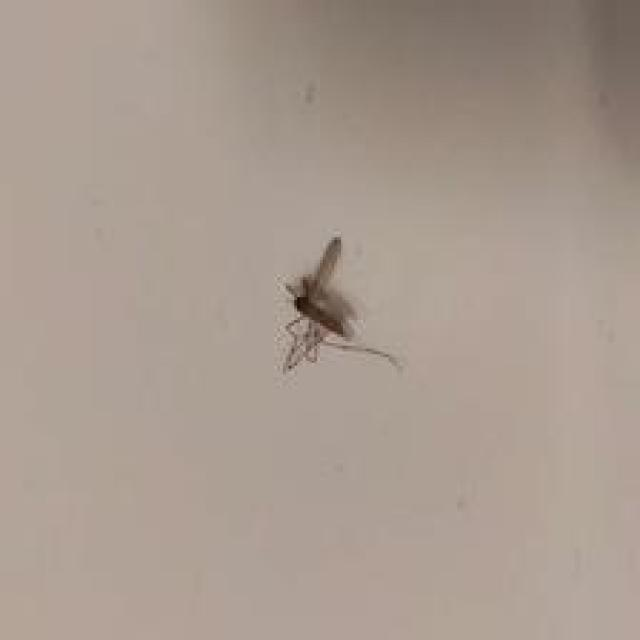Culex: (277, 234, 403, 374)
